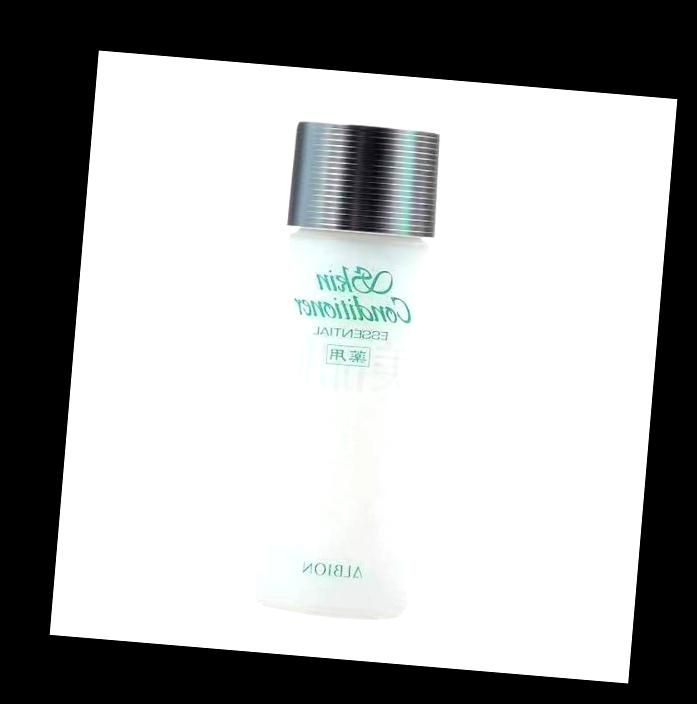cosmetic: (253, 117, 450, 622)
